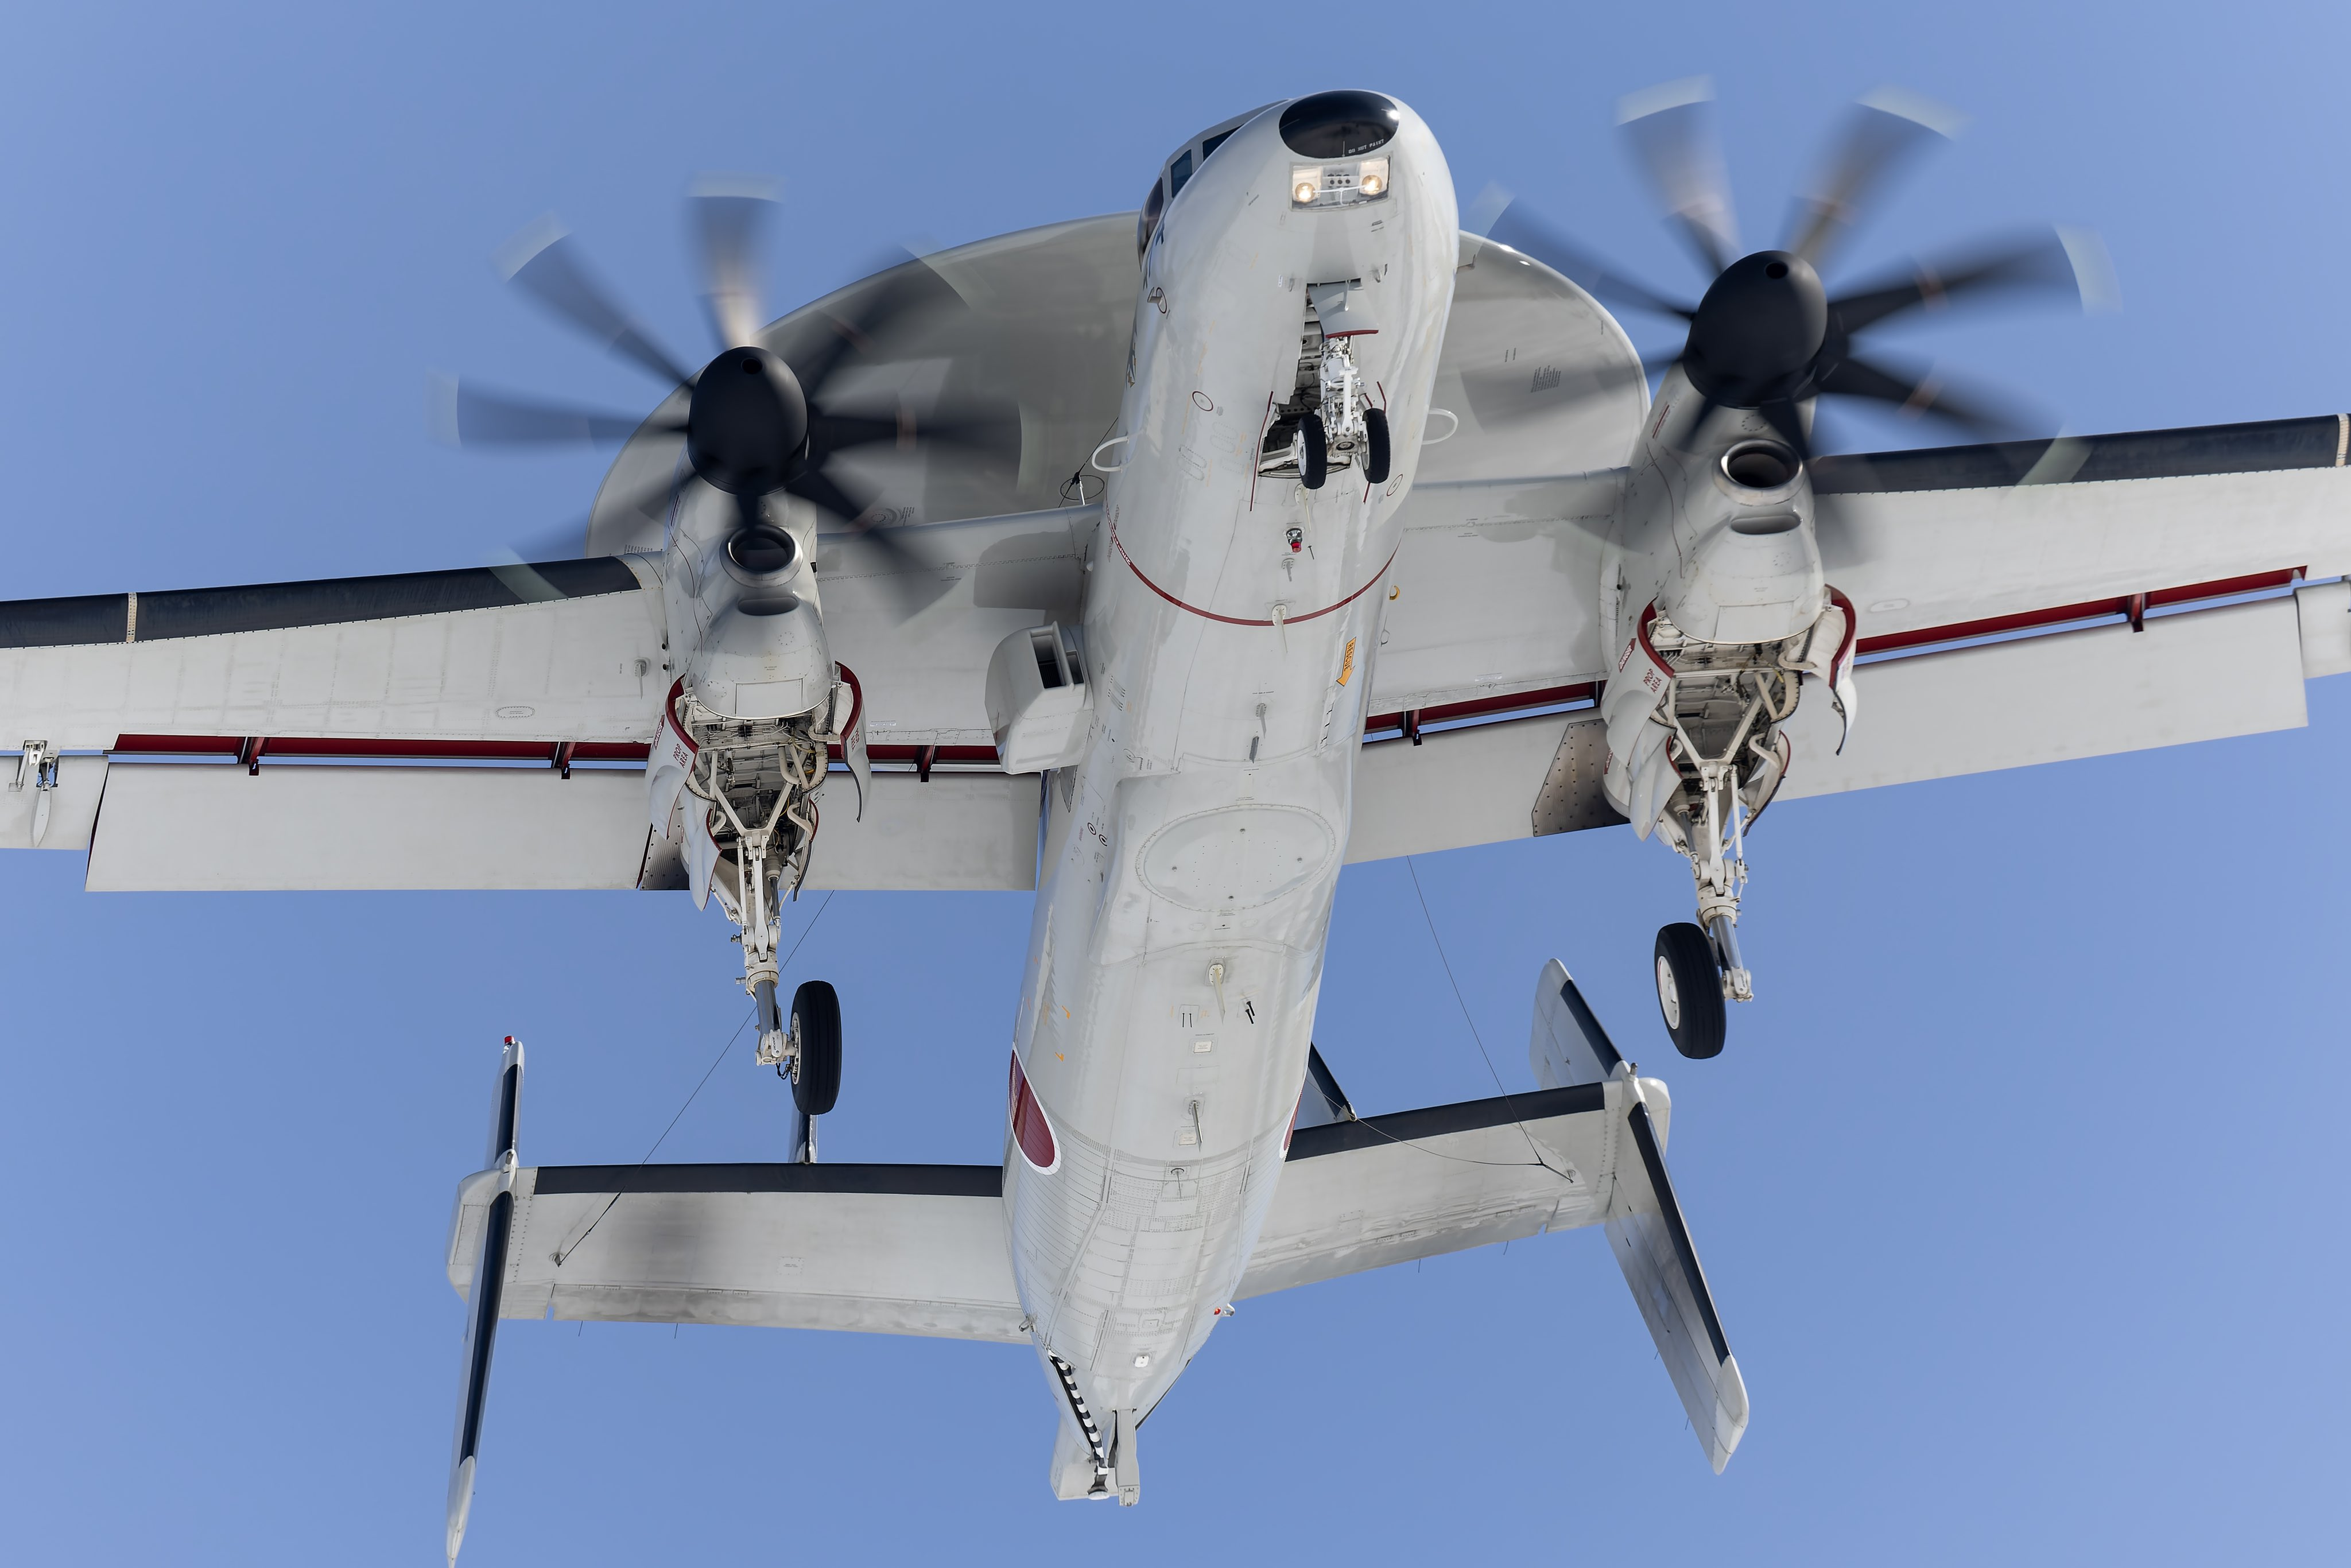E2: (0, 72, 2351, 1568)
